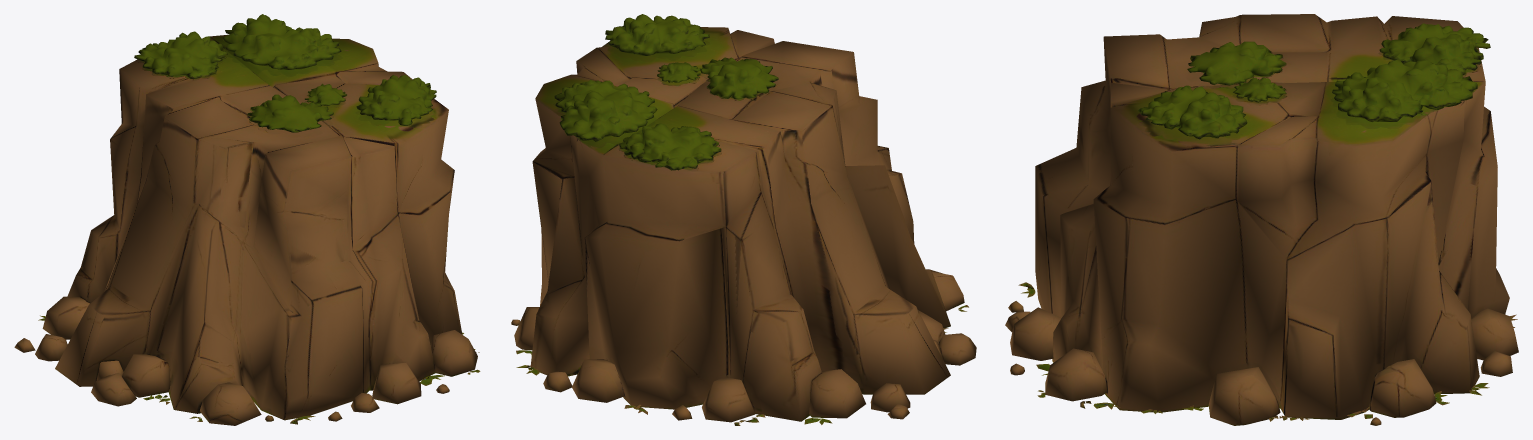
Rendered from cliff.glb.
3 renders of one model, left to right at view 1: azimuth 30°, elevation 25°; view 2: azimuth 150°, elevation 25°; view 3: azimuth 270°, elevation 25°, orthographic. The views are drawn at different scales.
Parts seen in each view (by area): view 1: tripo_node_7430b11c-8f5d-4474-ac4a-951af524aa5f; view 2: tripo_node_7430b11c-8f5d-4474-ac4a-951af524aa5f; view 3: tripo_node_7430b11c-8f5d-4474-ac4a-951af524aa5f.
Boxes of the visible parts, bbox=[...] form: tripo_node_7430b11c-8f5d-4474-ac4a-951af524aa5f: bbox=[14, 14, 480, 425]; tripo_node_7430b11c-8f5d-4474-ac4a-951af524aa5f: bbox=[511, 14, 976, 425]; tripo_node_7430b11c-8f5d-4474-ac4a-951af524aa5f: bbox=[1005, 14, 1518, 425].
Size of the model in its own units: 10 by 6.56 by 10.
Materials: 1 (1 with a texture image).
